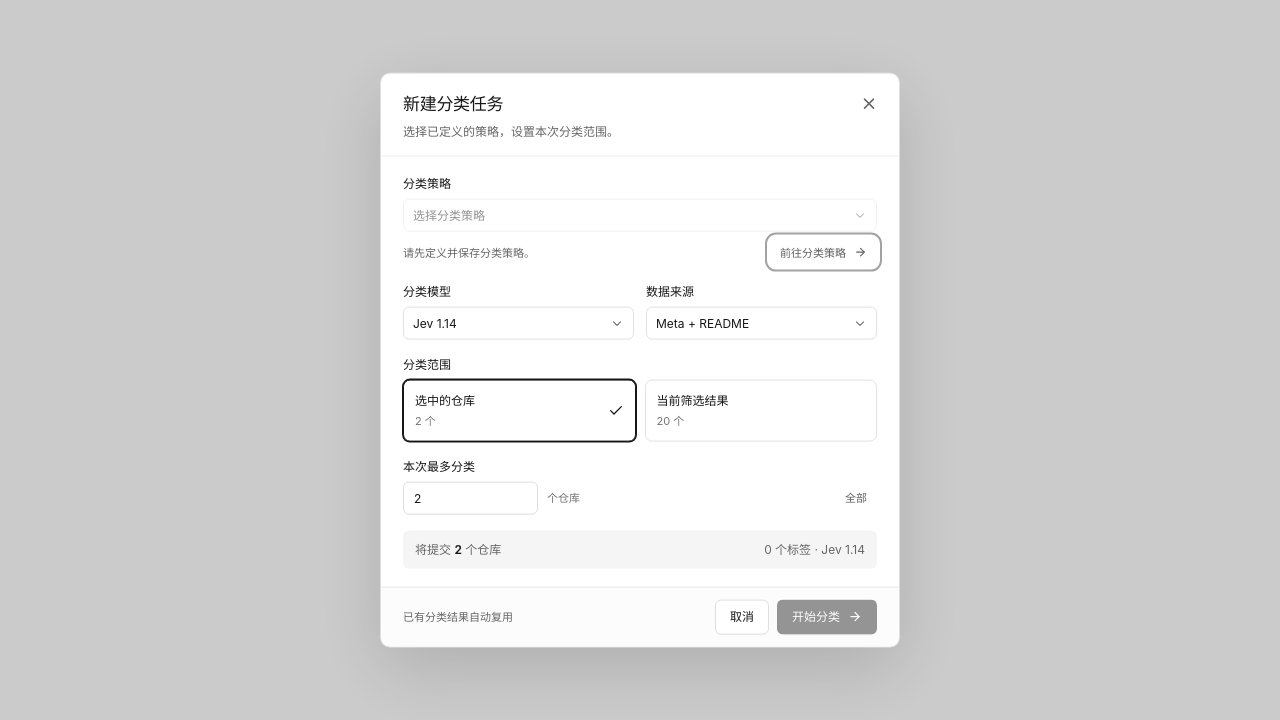
Scenario: 启动分类 › 完整仓库来源禁用，焦点提示等待实现中
This screenshot has width=1280, height=720.
Press Enter in the dropdown named "数据来源", box x1=646 y1=307 x2=877 y2=340
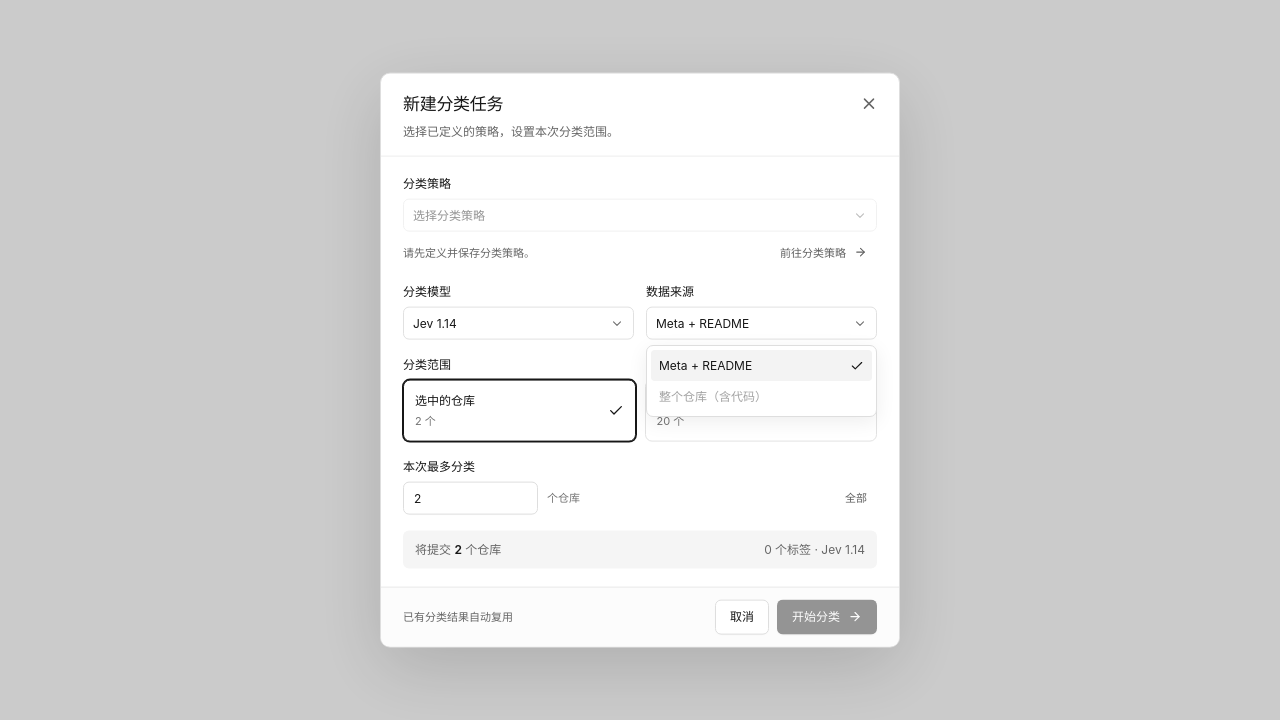
Focus the element named "整个仓库（含代码）：等待实现中" at (713, 396), box x1=659 y1=388 x2=767 y2=404
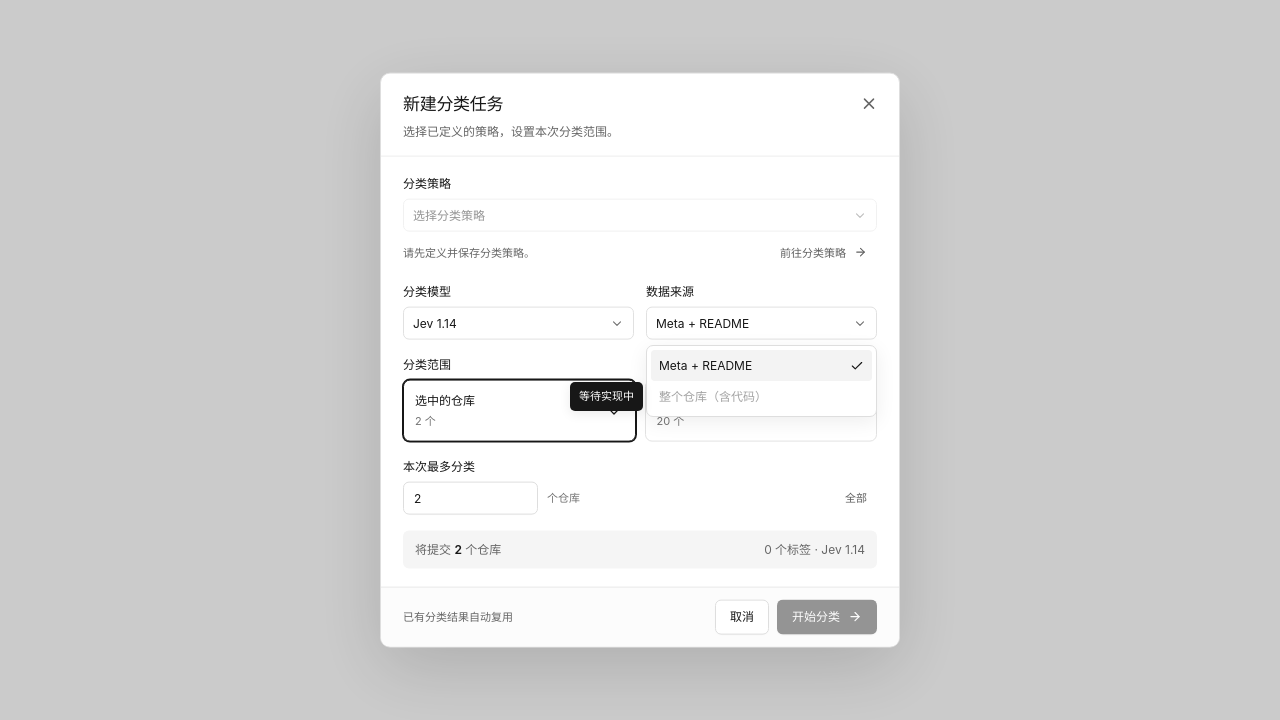
Result: the tooltip reads "等待实现中" at x1=579 y1=389 x2=634 y2=403
